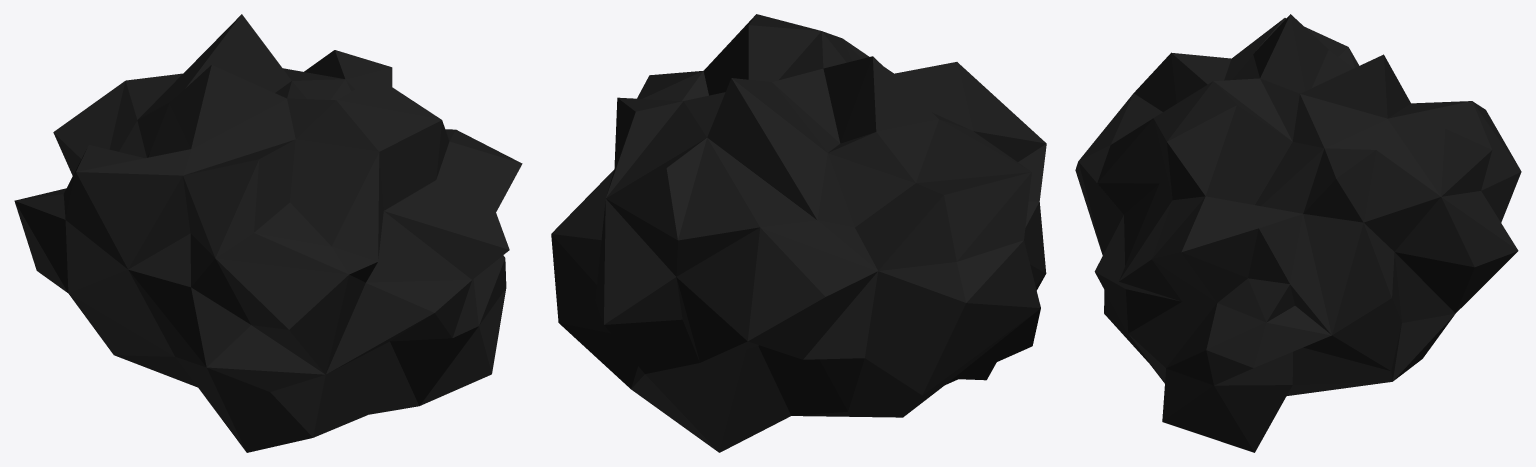
Rendered from Dark1.fbx.
3 renders of one model, left to right at view 1: azimuth 30°, elevation 25°; view 2: azimuth 150°, elevation 25°; view 3: azimuth 270°, elevation 25°, orthographic. The views are drawn at different scales.
Parts seen in each view (by area): view 1: Retopo_Cube.004; view 2: Retopo_Cube.004; view 3: Retopo_Cube.004.
Boxes of the visible parts, left/top/right/bottom form: Retopo_Cube.004: left=14, top=14, right=522, bottom=452; Retopo_Cube.004: left=551, top=14, right=1046, bottom=452; Retopo_Cube.004: left=1075, top=14, right=1521, bottom=452.
Bounding box in the file's own units: 133 × 108 × 128.
